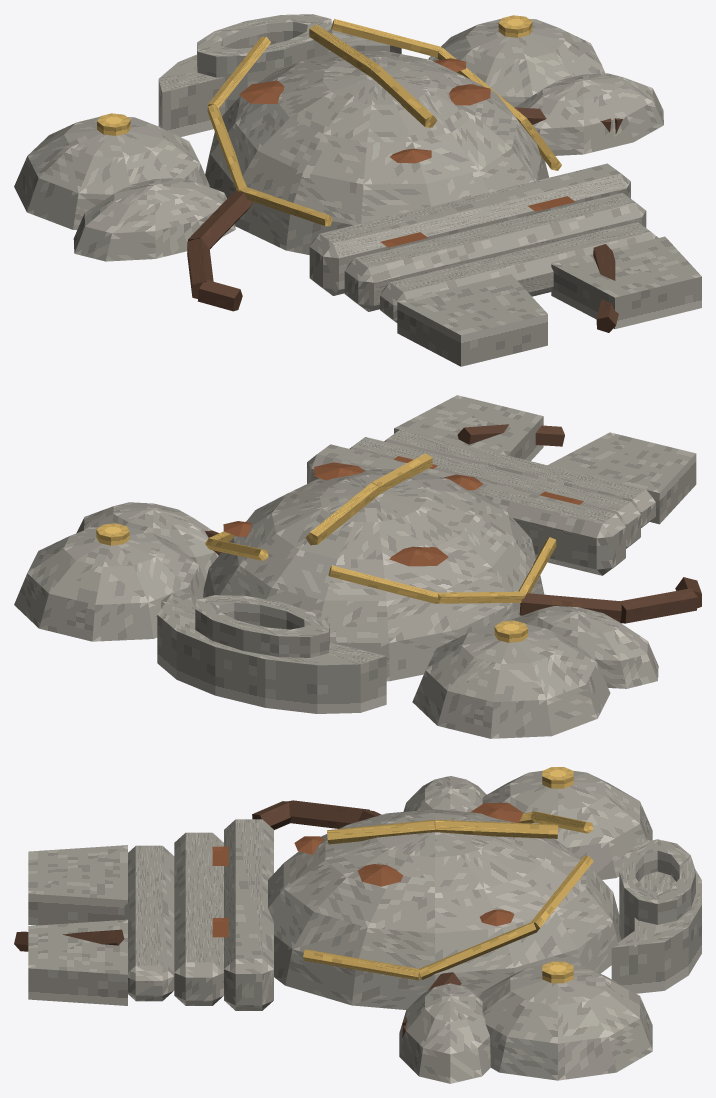
File: armor_junk_plate.glb
3 views of the same model, one above another, from view 1: azimuth 30°, elevation 25°; view 2: azimuth 150°, elevation 25°; view 3: azimuth 270°, elevation 25° (orthographic).
Parts seen in each view (by area): view 1: block_domed breastplate, block_fauld lame (×3), block_pauldron (×2), block_tasset (×2), block_pauldron lame (×2), block_gorget collar, block_gorget, block_gilded border 0 (×2), block_gilded border 2 (×2), block_rust patch (×2), block_tattered side strap 0, block_ornamental rivet (×2) (+7 smaller); view 2: block_domed breastplate, block_pauldron (×2), block_fauld lame (×3), block_gorget, block_tasset (×2), block_pauldron lame (×2), block_gorget collar, block_gilded border 0 (×2), block_tattered side strap 1, block_rust patch (×2), block_tattered side strap 0, block_ornamental rivet (×2) (+6 smaller); view 3: block_domed breastplate, block_fauld lame (×3), block_pauldron (×2), block_tasset (×2), block_pauldron lame (×2), block_gorget, block_gorget collar, block_etched center ridge 0, block_gilded border 0 (×2), block_tattered side strap 1, block_gilded border 1, block_etched center ridge 1 (+5 smaller).
Part boxes in pixels (x1,y1,x2,y2): block_domed breastplate: [205, 51, 548, 254]; block_fauld lame (×3): [309, 163, 658, 322]; block_pauldron (×2): [14, 18, 604, 230]; block_tasset (×2): [397, 236, 701, 366]; block_pauldron lame (×2): [73, 73, 663, 261]; block_gorget collar: [197, 14, 332, 112]; block_gorget: [158, 30, 401, 136]; block_gilded border 0 (×2): [207, 18, 441, 108]; block_gilded border 2 (×2): [240, 118, 561, 226]; block_rust patch (×2): [239, 80, 490, 105]; block_tattered side strap 0: [188, 191, 253, 249]; block_ornamental rivet (×2): [97, 15, 532, 135]; block_domed breastplate: [203, 469, 544, 681]; block_pauldron (×2): [14, 526, 610, 738]; block_fauld lame (×3): [307, 429, 655, 575]; block_gorget: [157, 592, 386, 713]; block_tasset (×2): [394, 395, 696, 524]; block_pauldron lame (×2): [76, 502, 658, 688]; block_gorget collar: [195, 595, 329, 657]; block_gilded border 0 (×2): [205, 538, 437, 603]; block_tattered side strap 1: [620, 588, 697, 623]; block_rust patch (×2): [314, 462, 448, 566]; block_tattered side strap 0: [519, 593, 621, 622]; block_ornamental rivet (×2): [96, 523, 527, 642]; block_domed breastplate: [268, 809, 620, 1009]; block_fauld lame (×3): [124, 819, 273, 1010]; block_pauldron (×2): [477, 770, 652, 1080]; block_tasset (×2): [28, 845, 127, 1005]; block_pauldron lame (×2): [399, 776, 490, 1083]; block_gorget: [611, 837, 701, 993]; block_gorget collar: [619, 839, 695, 940]; block_etched center ridge 0: [435, 819, 558, 838]; block_gilded border 0 (×2): [530, 811, 593, 931]; block_tattered side strap 1: [286, 800, 369, 828]; block_gilded border 1: [418, 922, 536, 979]; block_etched center ridge 1: [327, 819, 435, 844].
Bounding box in the file's own units: 0.589 × 0.1202 × 0.6.
2 materials, 2 textured.
